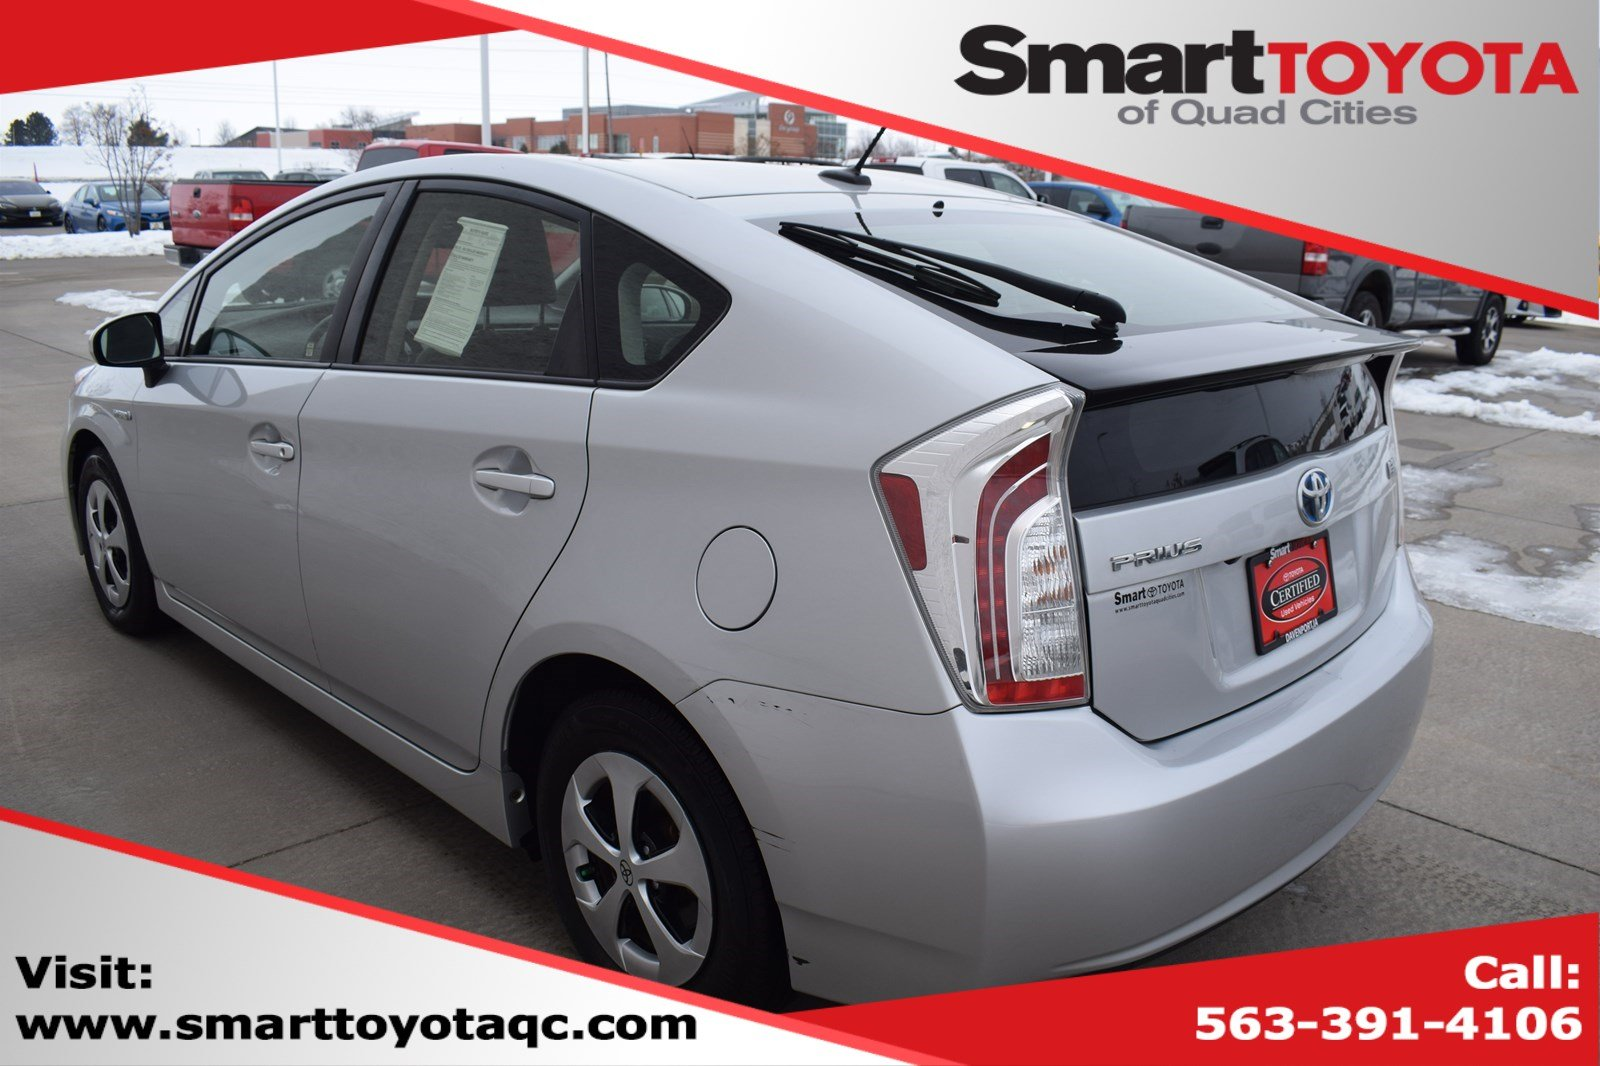Toyota Prius: (54, 148, 1439, 1012)
